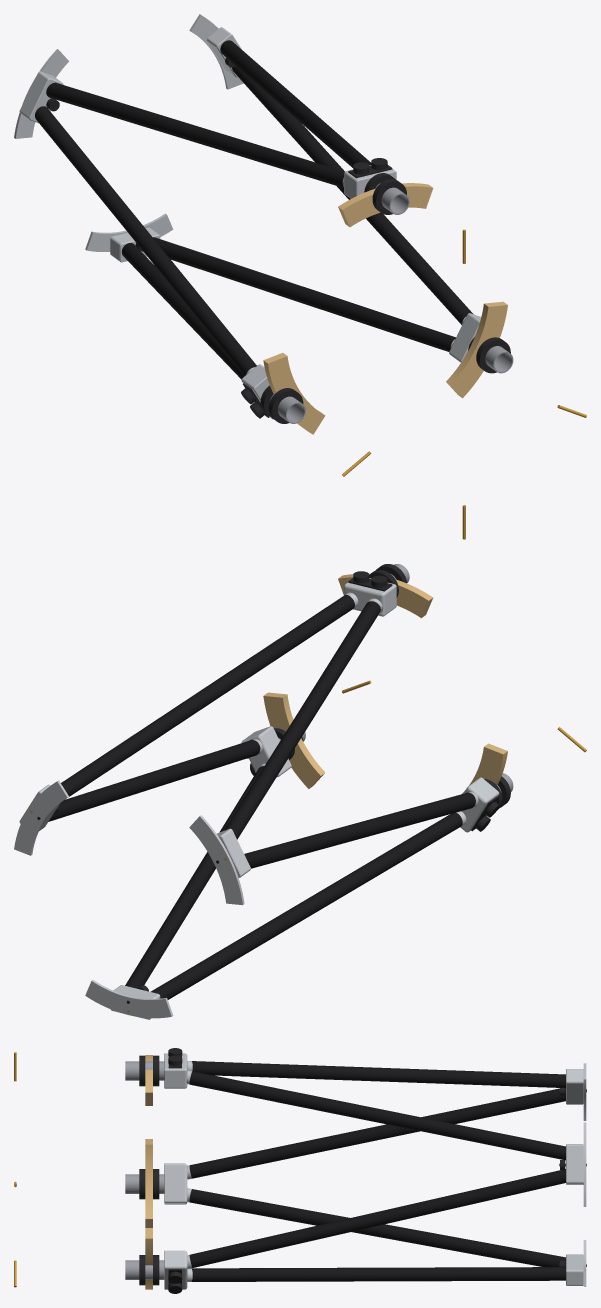
Rendered from joints_full.glb.
3 renders of one model, top to bottom at view 1: azimuth 30°, elevation 25°; view 2: azimuth 150°, elevation 25°; view 3: azimuth 270°, elevation 25°, orthographic. The views are drawn at different scales.
Parts seen in each view (by area): view 1: pole_150_1, pole_150_-1, pole_270_1, pole_30_-1, pole_30_1, pole_270_-1, box_ring_330, box_ring_90, box_ring_210, pair_block_150, cage_ring_270, cage_ring_150 (+7 smaller); view 2: pole_270_-1, pole_30_1, pole_150_-1, pole_150_1, pole_30_-1, pole_270_1, box_ring_330, cage_ring_150, cage_ring_270, cage_ring_30, box_ring_90, socket_90 (+4 smaller); view 3: pole_30_-1, pole_30_1, pole_270_1, pole_150_-1, pole_150_1, pole_270_-1, socket_210, pair_block_30, box_ring_210, socket_330, socket_90, pair_block_150 (+11 smaller).
Part boxes in pixels (x1=…): pole_150_1: x1=35, y1=106, x2=256, y2=375; pole_150_-1: x1=46, y1=82, x2=344, y2=187; pole_270_1: x1=153, y1=237, x2=455, y2=351; pole_30_-1: x1=232, y1=66, x2=473, y2=324; pole_30_1: x1=220, y1=40, x2=371, y2=167; pole_270_-1: x1=122, y1=243, x2=244, y2=379; box_ring_330: x1=446, y1=301, x2=507, y2=398; box_ring_90: x1=338, y1=183, x2=433, y2=227; box_ring_210: x1=263, y1=352, x2=325, y2=434; pair_block_150: x1=19, y1=71, x2=63, y2=123; cage_ring_270: x1=85, y1=213, x2=173, y2=251; cage_ring_150: x1=14, y1=49, x2=68, y2=138; pole_270_-1: x1=150, y1=812, x2=462, y2=999; pole_30_1: x1=61, y1=595, x2=354, y2=800; pole_150_-1: x1=224, y1=601, x2=380, y2=839; pole_150_1: x1=244, y1=792, x2=475, y2=868; pole_30_-1: x1=48, y1=740, x2=260, y2=821; pole_270_1: x1=125, y1=766, x2=264, y2=988; box_ring_330: x1=263, y1=692, x2=325, y2=788; cage_ring_150: x1=189, y1=815, x2=244, y2=905; cage_ring_270: x1=85, y1=980, x2=173, y2=1018; cage_ring_30: x1=14, y1=780, x2=69, y2=855; box_ring_90: x1=338, y1=574, x2=433, y2=618; socket_90: x1=344, y1=578, x2=396, y2=616; pole_30_-1: x1=189, y1=1169, x2=565, y2=1267; pole_30_1: x1=189, y1=1071, x2=565, y2=1160; pole_270_1: x1=191, y1=1267, x2=565, y2=1281; pole_150_-1: x1=192, y1=1061, x2=565, y2=1088; pole_150_1: x1=189, y1=1088, x2=565, y2=1178; pole_270_-1: x1=189, y1=1189, x2=565, y2=1266; socket_210: x1=164, y1=1163, x2=187, y2=1204; pair_block_30: x1=566, y1=1144, x2=583, y2=1184; box_ring_210: x1=145, y1=1139, x2=152, y2=1227; socket_330: x1=164, y1=1250, x2=187, y2=1289; socket_90: x1=164, y1=1053, x2=187, y2=1088; pair_block_150: x1=566, y1=1069, x2=583, y2=1104.
Bounding box in the file's own units: 575 × 571 × 1315.
